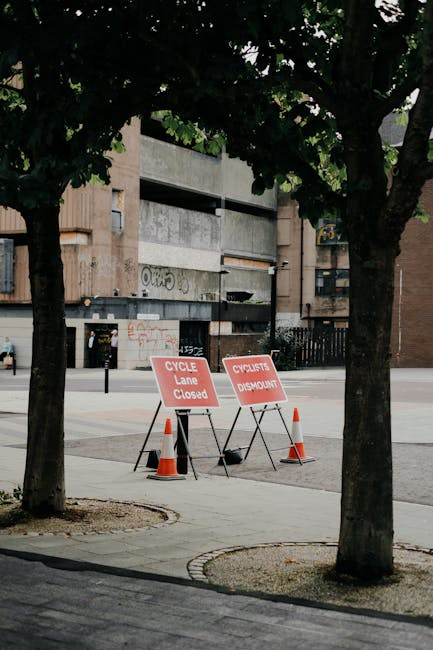traffic_cone: (146, 417, 186, 481), (279, 407, 316, 464)
